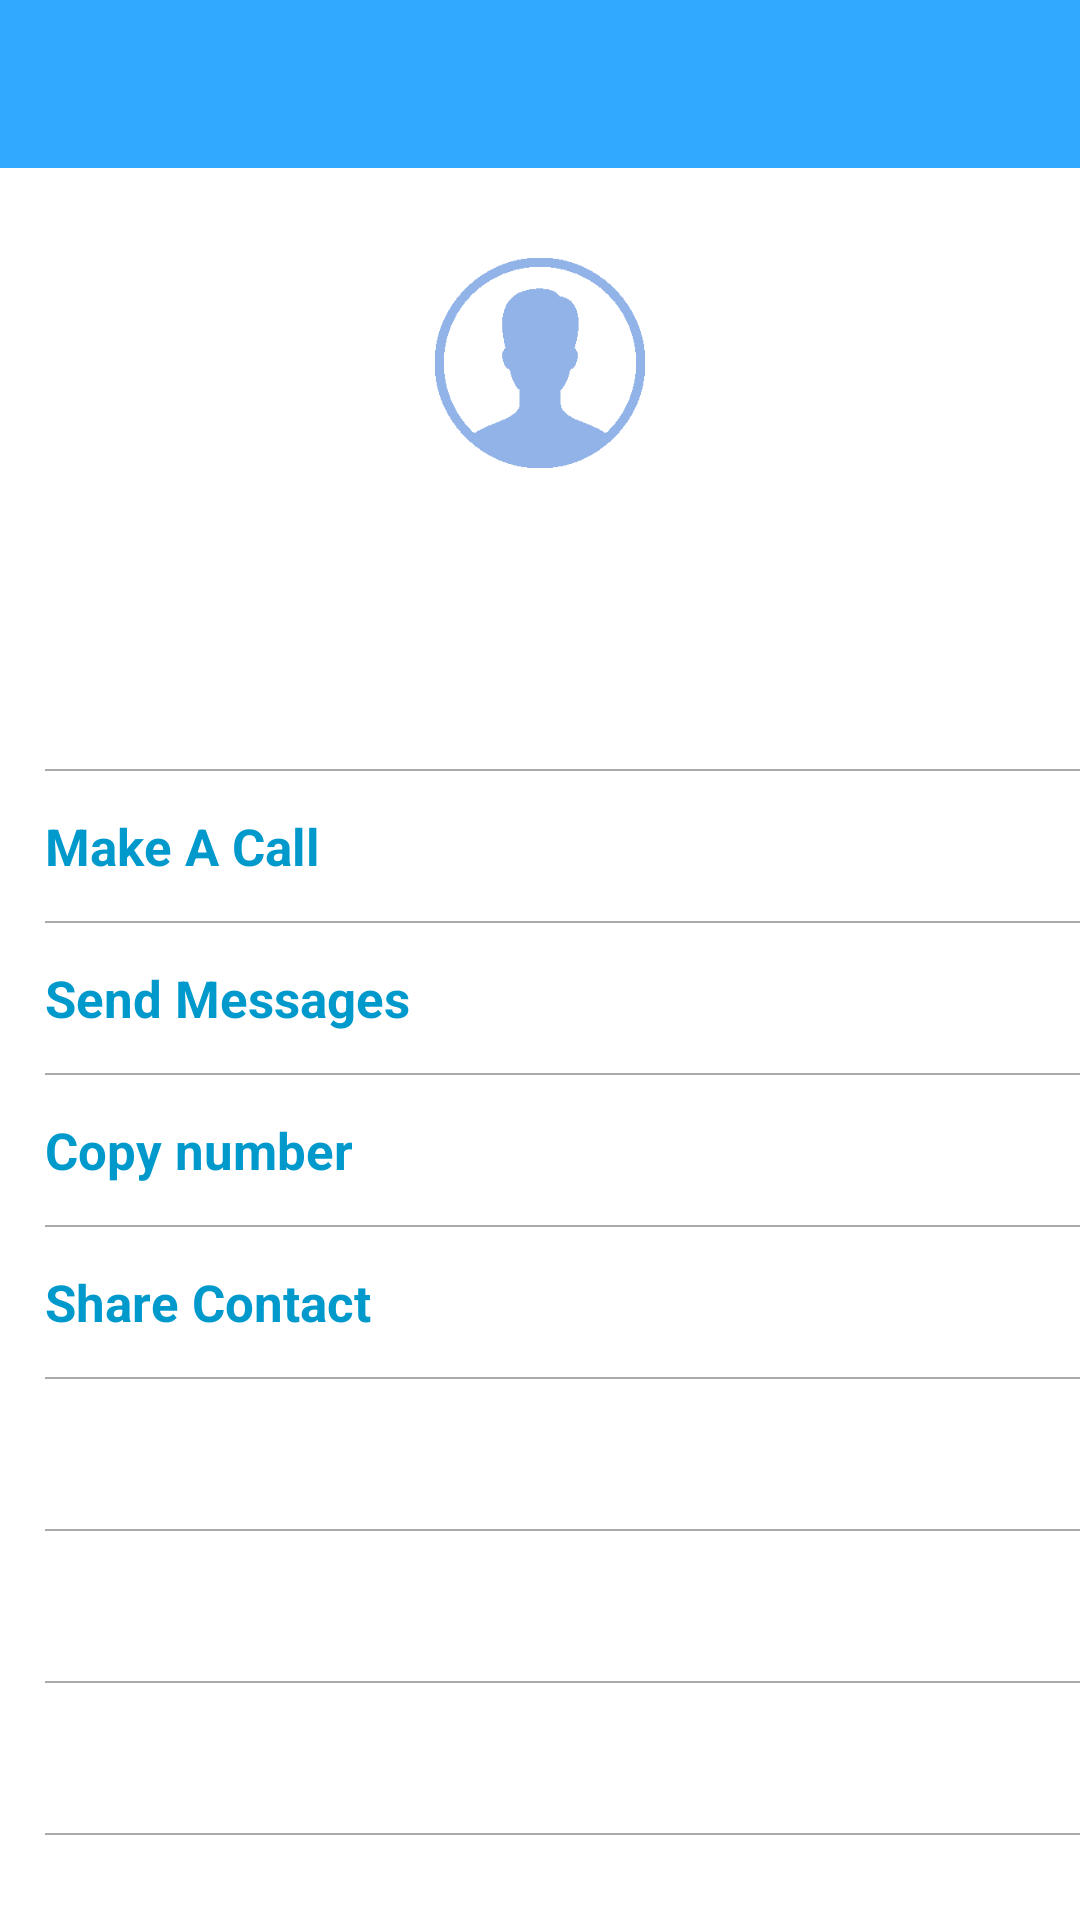

Point at icon controls on the screen. Image size 1080 × 1920, points as [x,y].
user: [540,363]
